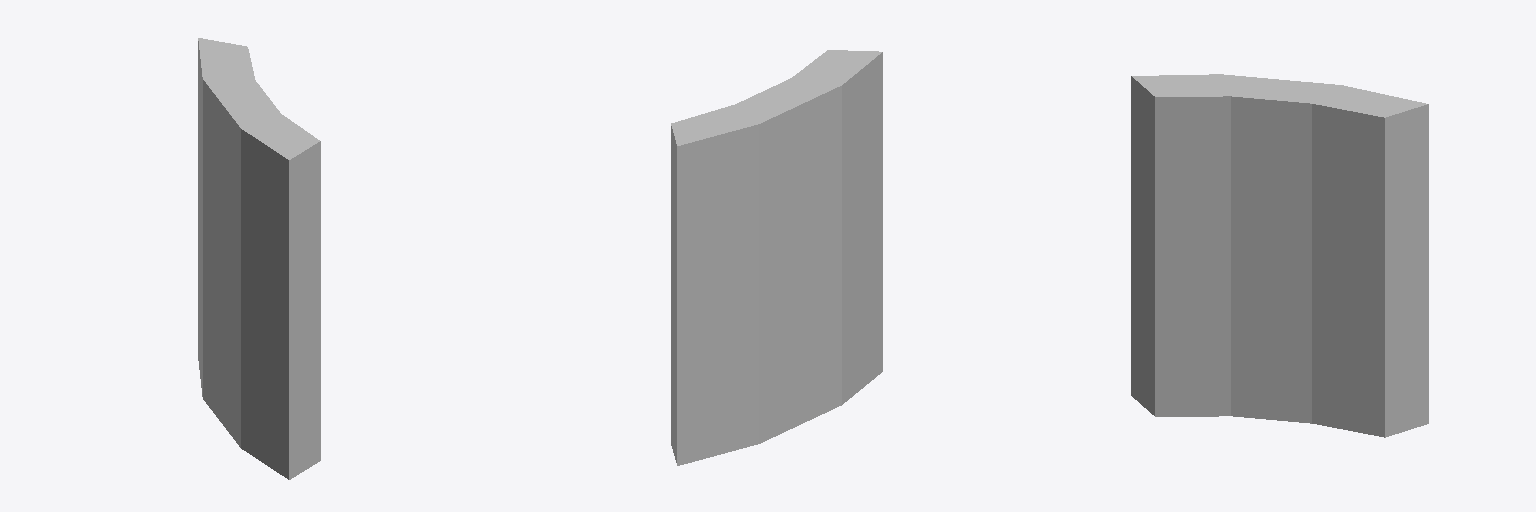
Rendered from shield7.obj.
The picture shows the model from 3 angles: view 1: azimuth 30°, elevation 25°; view 2: azimuth 150°, elevation 25°; view 3: azimuth 270°, elevation 25°; orthographic projection.
Parts seen in each view (by area): view 1: shield4:pCylinder7; view 2: shield4:pCylinder7; view 3: shield4:pCylinder7.
Part boxes in pixels (left/top/right/bottom): shield4:pCylinder7: left=198, top=38, right=320, bottom=479; shield4:pCylinder7: left=671, top=50, right=882, bottom=465; shield4:pCylinder7: left=1131, top=74, right=1428, bottom=437.
Size of the model in its own units: 1.04 by 3.56 by 3.